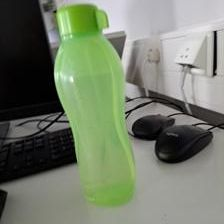bottle: (52, 3, 136, 206)
